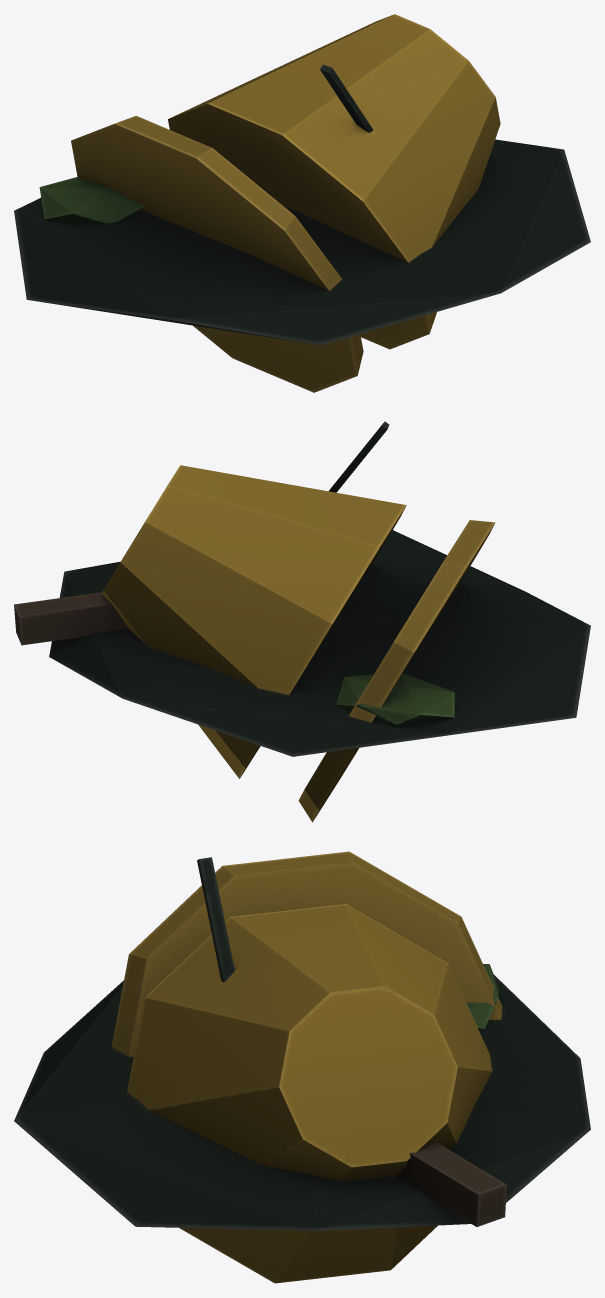
File: sign_captain_bell.glb
3 renders of one model, top to bottom at view 1: azimuth 30°, elevation 25°; view 2: azimuth 150°, elevation 25°; view 3: azimuth 270°, elevation 25°, orthographic. The views are drawn at different scales.
Parts seen in each view (by area): view 1: sign_captain_bell; view 2: sign_captain_bell; view 3: sign_captain_bell.
Part boxes in pixels (left/top/right/bottom): sign_captain_bell: left=14, top=14, right=590, bottom=392; sign_captain_bell: left=14, top=421, right=590, bottom=822; sign_captain_bell: left=14, top=851, right=590, bottom=1283.
Bounding box in the file's own units: 1.52 × 0.9554 × 1.25.
Materials: 1 (1 with a texture image).
